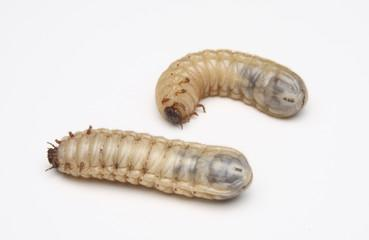grub: (33, 126, 262, 222)
